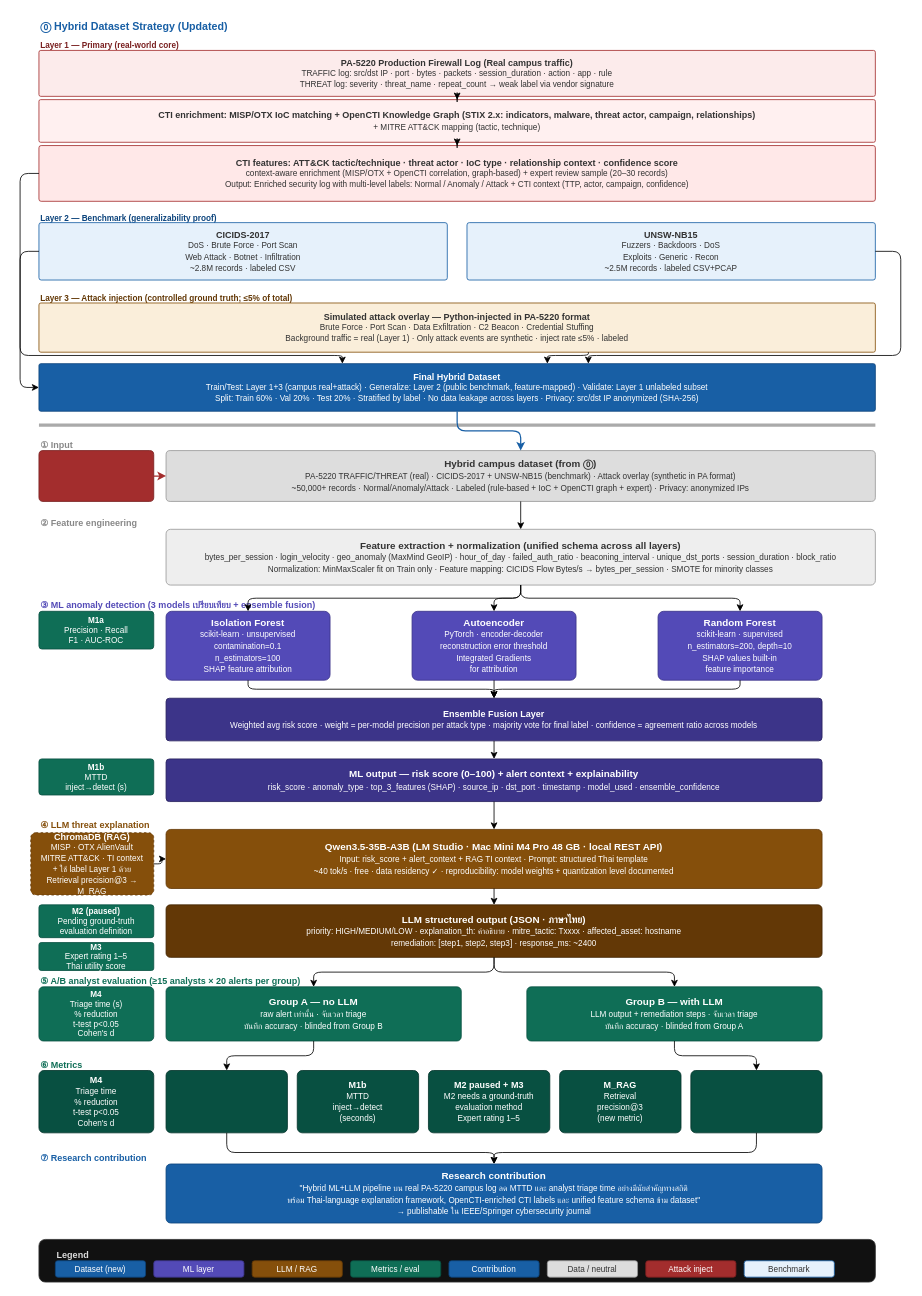
Image size: 922x1296. Some labels were removed from this diagram. The centre of each missing label's shape, as x and y in pixels:
"5 attack scenarios Brute Force · Port Scan Data Exfil · C2 Beacon Cred. Stuffing" belongs at (x=96, y=475).
"M1a Precision Recall · F1 AUC-ROC" belongs at (x=226, y=1101).
"M4 Analyst triage time % reduction t-test p<0.05 Cohen's d" belongs at (x=756, y=1101).
